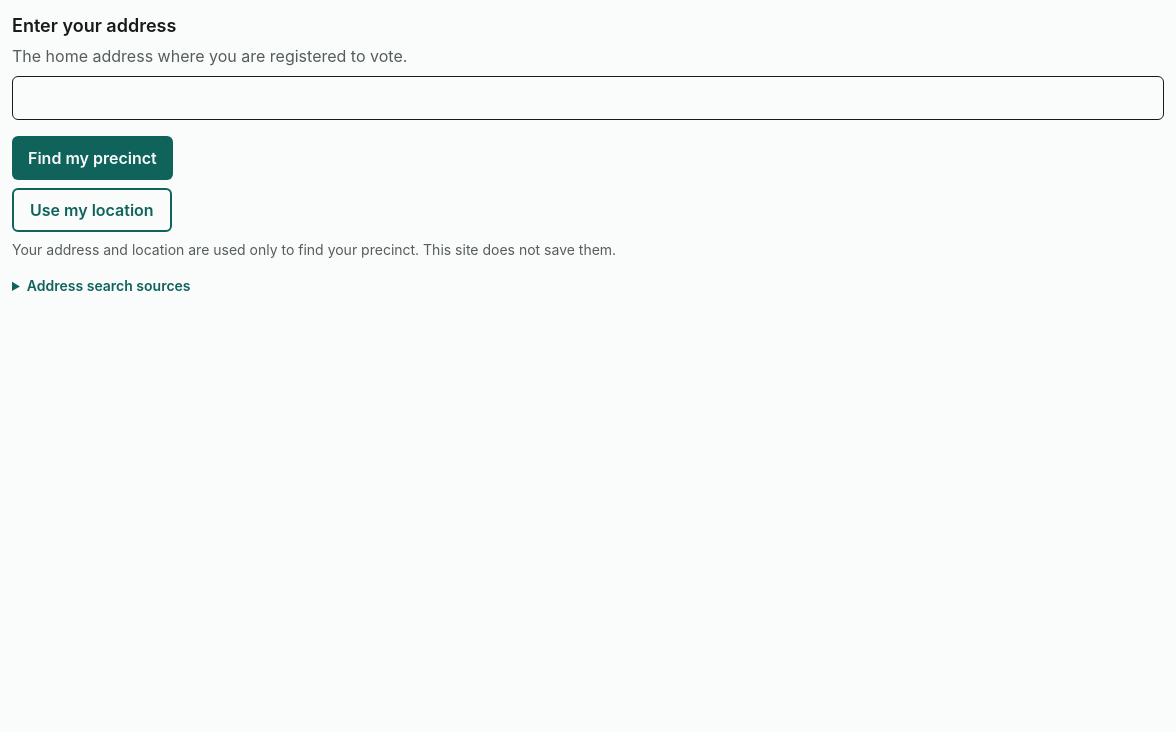
it: AddressLookup › sends a "Use my location" point through locate and shows the unknown notice
This screenshot has width=1176, height=732.
Click the button "Use my location" at [92, 210], box 12,188 -> 172,232
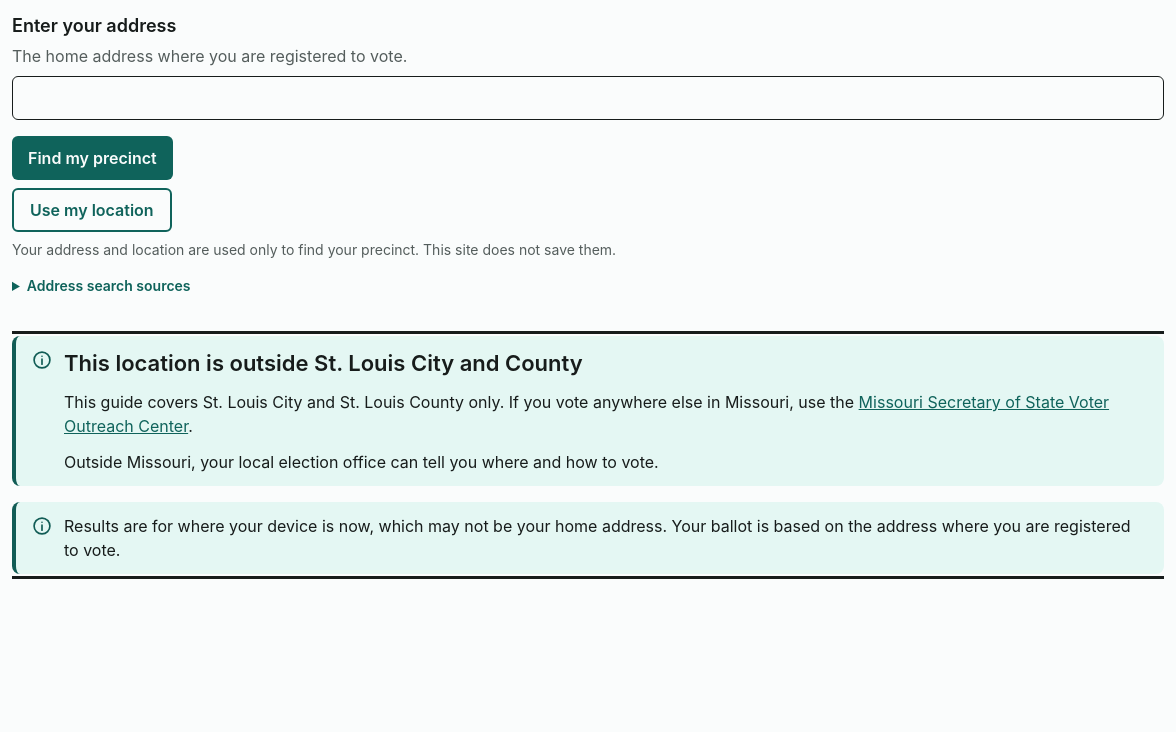
Expected: the heading "This location is outside St. Louis City and County" is shown, 64,350 -> 583,376
Expected: the text "anywhere else in Missouri" is shown, 64,392 -> 854,412
